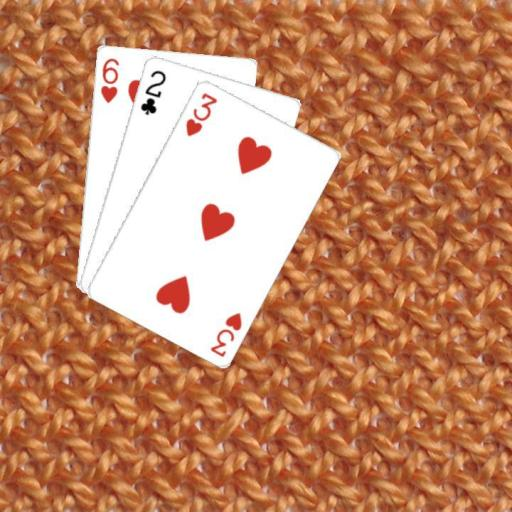2C: (137, 66, 167, 116)
3H: (206, 309, 243, 359), (182, 89, 219, 138)
6H: (97, 54, 120, 104)
